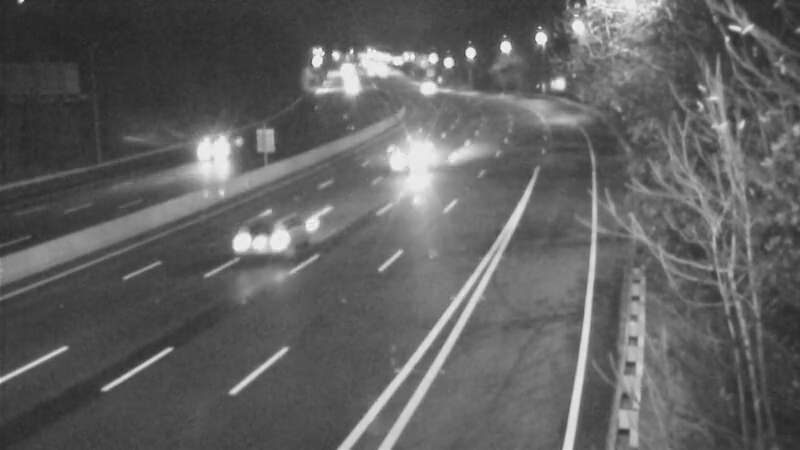vehicle: (372, 118, 452, 198), (241, 189, 321, 269), (168, 117, 248, 197), (399, 60, 449, 110)
